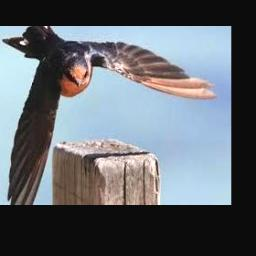Swallow: (2, 26, 217, 205)
